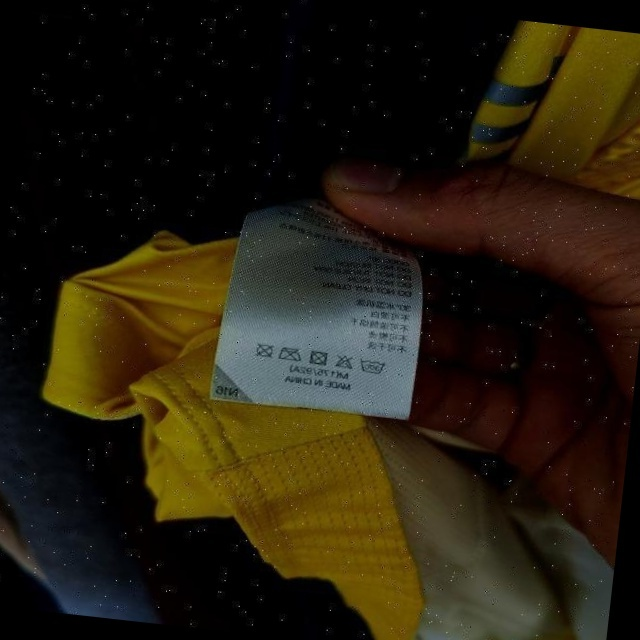30C: (357, 356, 387, 378)
DN_bleach: (332, 353, 354, 370)
DN_dry_clean: (252, 341, 275, 360)
DN_iron: (277, 344, 305, 364)
DN_tumble_dry: (307, 349, 329, 368)
